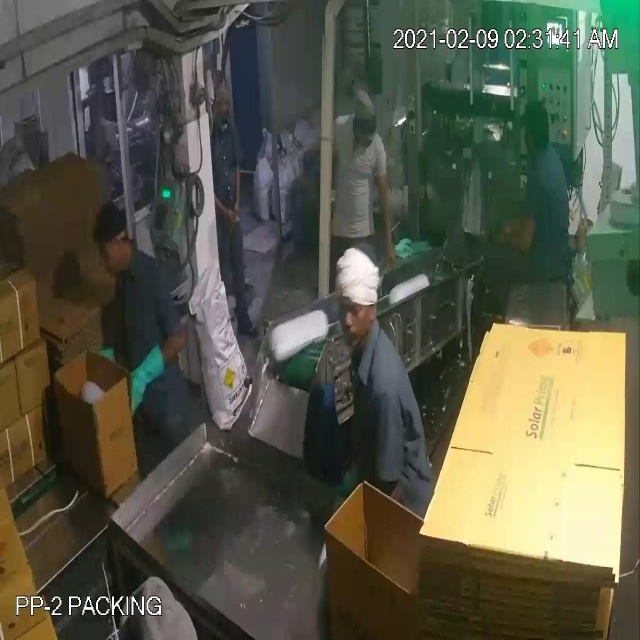Guantes: (114, 315, 170, 422)
Sin_guantes: (484, 188, 547, 260), (370, 155, 400, 279), (200, 160, 240, 239)
